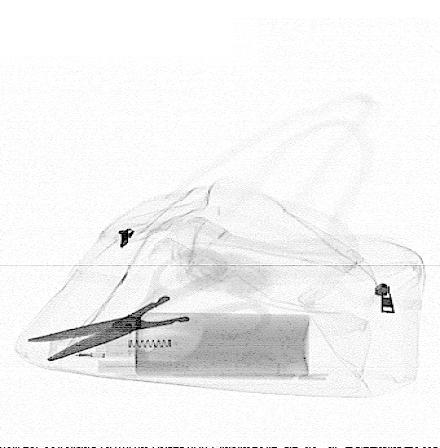Scissors: (24, 243, 277, 365)
